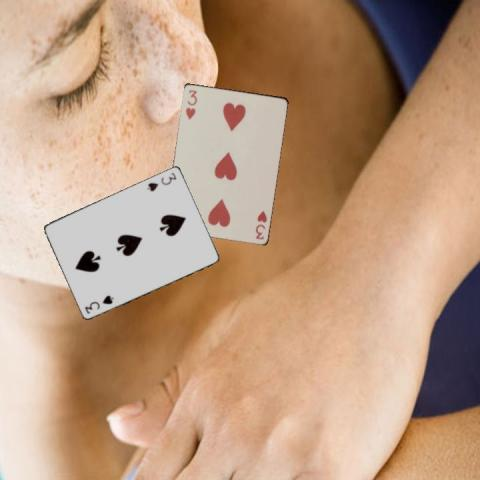3h: (182, 87, 198, 120), (253, 207, 268, 241)
3s: (144, 169, 178, 193), (82, 292, 115, 315)
